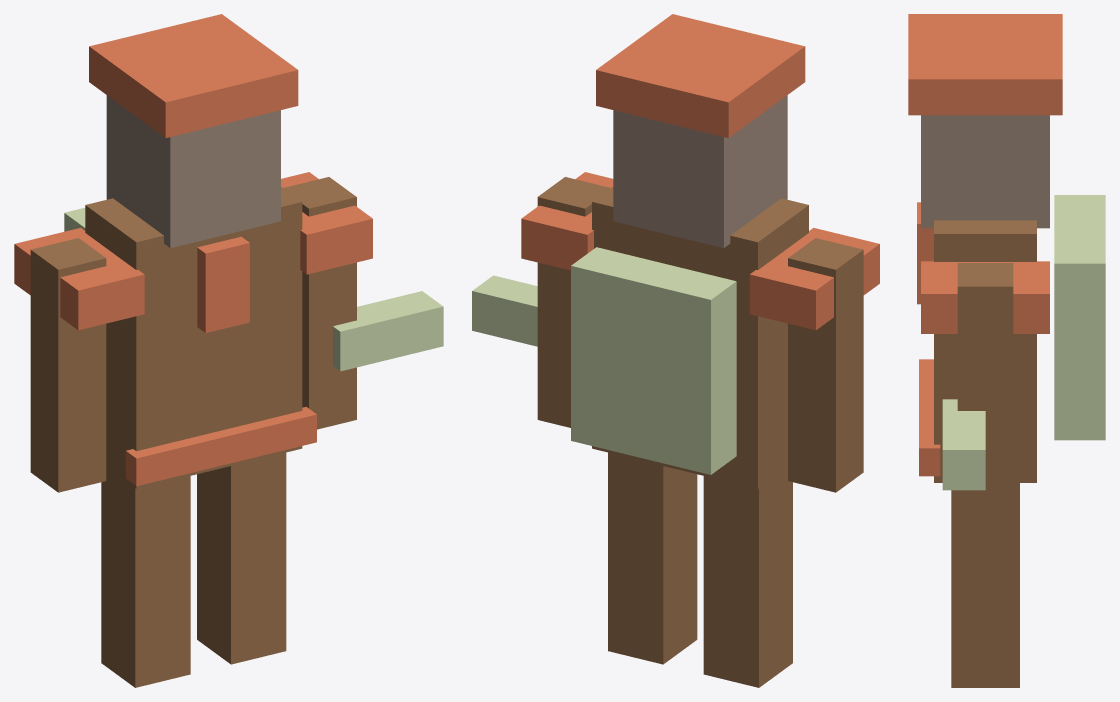
File: 15_pax_trenchmark_oracle_under_index.glb
3 views of the same model, side by side, from view 1: azimuth 30°, elevation 25°; view 2: azimuth 150°, elevation 25°; view 3: azimuth 270°, elevation 25° (orthographic).
Parts seen in each view (by area): view 1: Pax Trenchmark, Oracle under Index; view 2: Pax Trenchmark, Oracle under Index; view 3: Pax Trenchmark, Oracle under Index.
Boxes of the visible parts, box(x1,y1,x2,y2) form: Pax Trenchmark, Oracle under Index: box(14, 14, 443, 687); Pax Trenchmark, Oracle under Index: box(472, 14, 879, 687); Pax Trenchmark, Oracle under Index: box(908, 14, 1105, 687).
Bounding box in the file's own units: 0.9644 × 1.46 × 0.4328.
